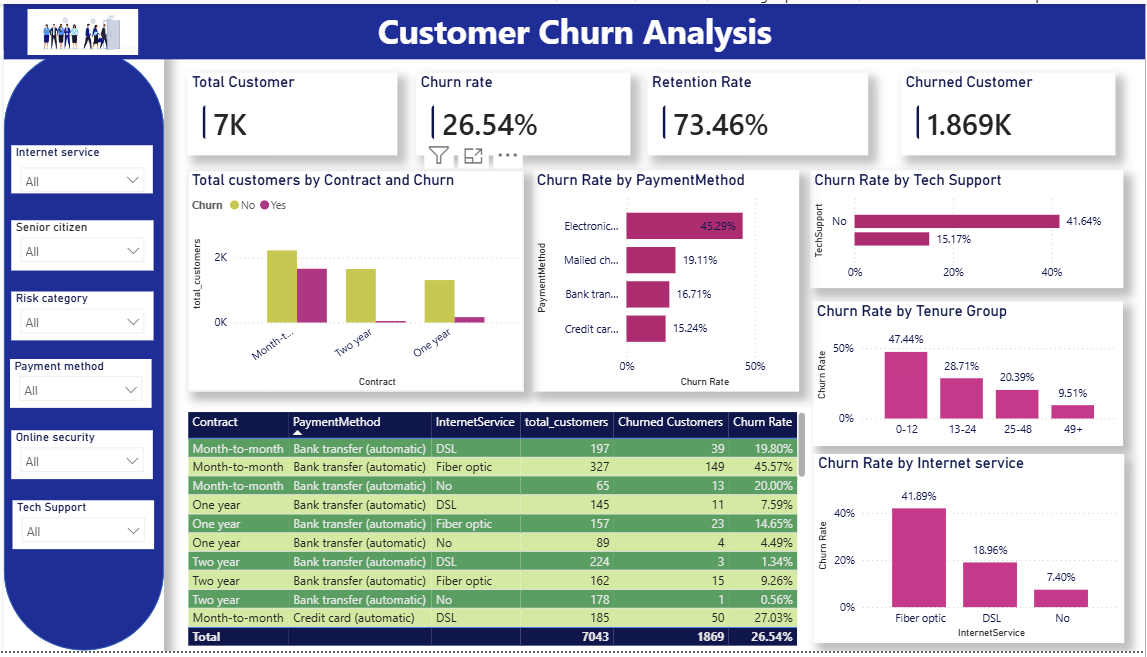

What the dashboard file says about the page in this screenshot:
{"tool":"powerbi","page":{"name":"Customer Churn Analysis","canvas":[1280,720],"ordinal":2},"visuals":[{"type":"textbox","box":[9.6,0,1270.7,50.8],"z":0},{"type":"shape","box":[9.6,50.8,178.4,669.6],"z":1000},{"type":"textbox","box":[9.6,0,1270.7,61.7],"z":2000},{"type":"cardVisual","title":"Total Customer","fields":{"Data":["Churn_Dataset.total_customers"]},"box":[214,76.7,233.7,91.9],"z":3000},{"type":"cardVisual","title":"Churn rate","fields":{"Data":["Churn_Dataset.Churn Rate"]},"box":[468.6,76.7,238.4,91.9],"z":4000},{"type":"cardVisual","title":"Retention Rate","fields":{"Data":["Churn_Dataset.Retention Rate"]},"box":[726.7,76.7,245.3,91.9],"z":5000},{"type":"cardVisual","title":"Churned Customer","fields":{"Data":["Churn_Dataset.Churned Customers"]},"box":[1008.1,76.7,238.4,91.9],"z":6000},{"type":"clusteredBarChart","title":"Churn Rate by Tech Support","fields":{"Y":["Churn_Dataset.Churn Rate"],"Category":["Churn_Dataset.TechSupport"]},"box":[907,184.9,348.8,131.4],"z":7000},{"type":"clusteredColumnChart","title":"Churn Rate by Tenure Group","fields":{"Y":["Churn_Dataset.Churn Rate"],"Category":["Churn_Dataset.tenure_band"]},"box":[910.5,331.4,345.3,160.5],"z":8000},{"type":"slicer","title":"Internet service","fields":{"Values":["Churn_Dataset.InternetService"]},"box":[17.8,157.8,157.8,53.5],"z":9000},{"type":"slicer","title":"Senior citizen","fields":{"Values":["Churn_Dataset.SeniorCitizen"]},"box":[17.4,240.7,158.1,55.8],"z":10000},{"type":"clusteredBarChart","fields":{"Category":["Churn_Dataset.PaymentMethod"],"Y":["Churn_Dataset.Churn Rate"]},"box":[587.1,185,308.9,246.3],"z":11000},{"type":"tableEx","fields":{"Values":["Churn_Dataset.Contract","Churn_Dataset.PaymentMethod","Churn_Dataset.InternetService","Churn_Dataset.total_customers","Churn_Dataset.Churned Customers","Churn_Dataset.Churn Rate"]},"box":[208.1,450,698.8,269.8],"z":12000},{"type":"clusteredColumnChart","title":"Churn Rate by Internet service","fields":{"Y":["Churn_Dataset.Churn Rate"],"Category":["Churn_Dataset.InternetService"]},"box":[911.6,501.2,345.3,210.5],"z":14000},{"type":"image","box":[36,5.8,123.3,51.2],"z":15000},{"type":"lineClusteredColumnComboChart","title":"Total customers by Contract and Churn","fields":{"Category":["Churn_Dataset.Contract"],"Y":["Churn_Dataset.total_customers"],"Series":["Churn_Dataset.Churn"]},"box":[214.3,185,357.6,246.3],"z":15001},{"type":"slicer","title":"Risk category","fields":{"Values":["Churn_Dataset.risk_segment"]},"box":[17.4,319.8,158.1,54.7],"z":15002},{"type":"slicer","title":"Payment method","fields":{"Values":["Churn_Dataset.PaymentMethod"]},"box":[16.7,395.1,157.2,54.3],"z":15004},{"type":"slicer","title":"Online security","fields":{"Values":["Churn_Dataset.OnlineSecurity"]},"box":[18.1,474.4,157.2,54.3],"z":15005},{"type":"slicer","title":"Tech Support","fields":{"Values":["Churn_Dataset.TechSupport"]},"box":[19.5,552.3,157.2,54.3],"z":15006}]}

Visuals, with their boxes in screenshot pixels (x1, y1, x2, y2), scaled from the page's 1280x720 canvas onto the 1147x657 screenshot:
textbox: pyautogui.locateOnScreen(9, 0, 1146, 46)
shape: pyautogui.locateOnScreen(9, 46, 168, 656)
textbox: pyautogui.locateOnScreen(9, 0, 1146, 56)
"Total Customer" cardVisual: pyautogui.locateOnScreen(192, 70, 401, 154)
"Churn rate" cardVisual: pyautogui.locateOnScreen(420, 70, 634, 154)
"Retention Rate" cardVisual: pyautogui.locateOnScreen(651, 70, 871, 154)
"Churned Customer" cardVisual: pyautogui.locateOnScreen(903, 70, 1117, 154)
"Churn Rate by Tech Support" clusteredBarChart: pyautogui.locateOnScreen(813, 169, 1125, 289)
"Churn Rate by Tenure Group" clusteredColumnChart: pyautogui.locateOnScreen(816, 302, 1125, 449)
"Internet service" slicer: pyautogui.locateOnScreen(16, 144, 157, 193)
"Senior citizen" slicer: pyautogui.locateOnScreen(16, 220, 157, 271)
clusteredBarChart - Churn_Dataset.PaymentMethod x Churn_Dataset.Churn Rate: pyautogui.locateOnScreen(526, 169, 803, 394)
tableEx - Churn_Dataset.Contract x Churn_Dataset.PaymentMethod: pyautogui.locateOnScreen(186, 411, 813, 656)
"Churn Rate by Internet service" clusteredColumnChart: pyautogui.locateOnScreen(817, 457, 1126, 649)
image: pyautogui.locateOnScreen(32, 5, 143, 52)
"Total customers by Contract and Churn" lineClusteredColumnComboChart: pyautogui.locateOnScreen(192, 169, 512, 394)
"Risk category" slicer: pyautogui.locateOnScreen(16, 292, 157, 342)
"Payment method" slicer: pyautogui.locateOnScreen(15, 361, 156, 410)
"Online security" slicer: pyautogui.locateOnScreen(16, 433, 157, 482)
"Tech Support" slicer: pyautogui.locateOnScreen(17, 504, 158, 554)
